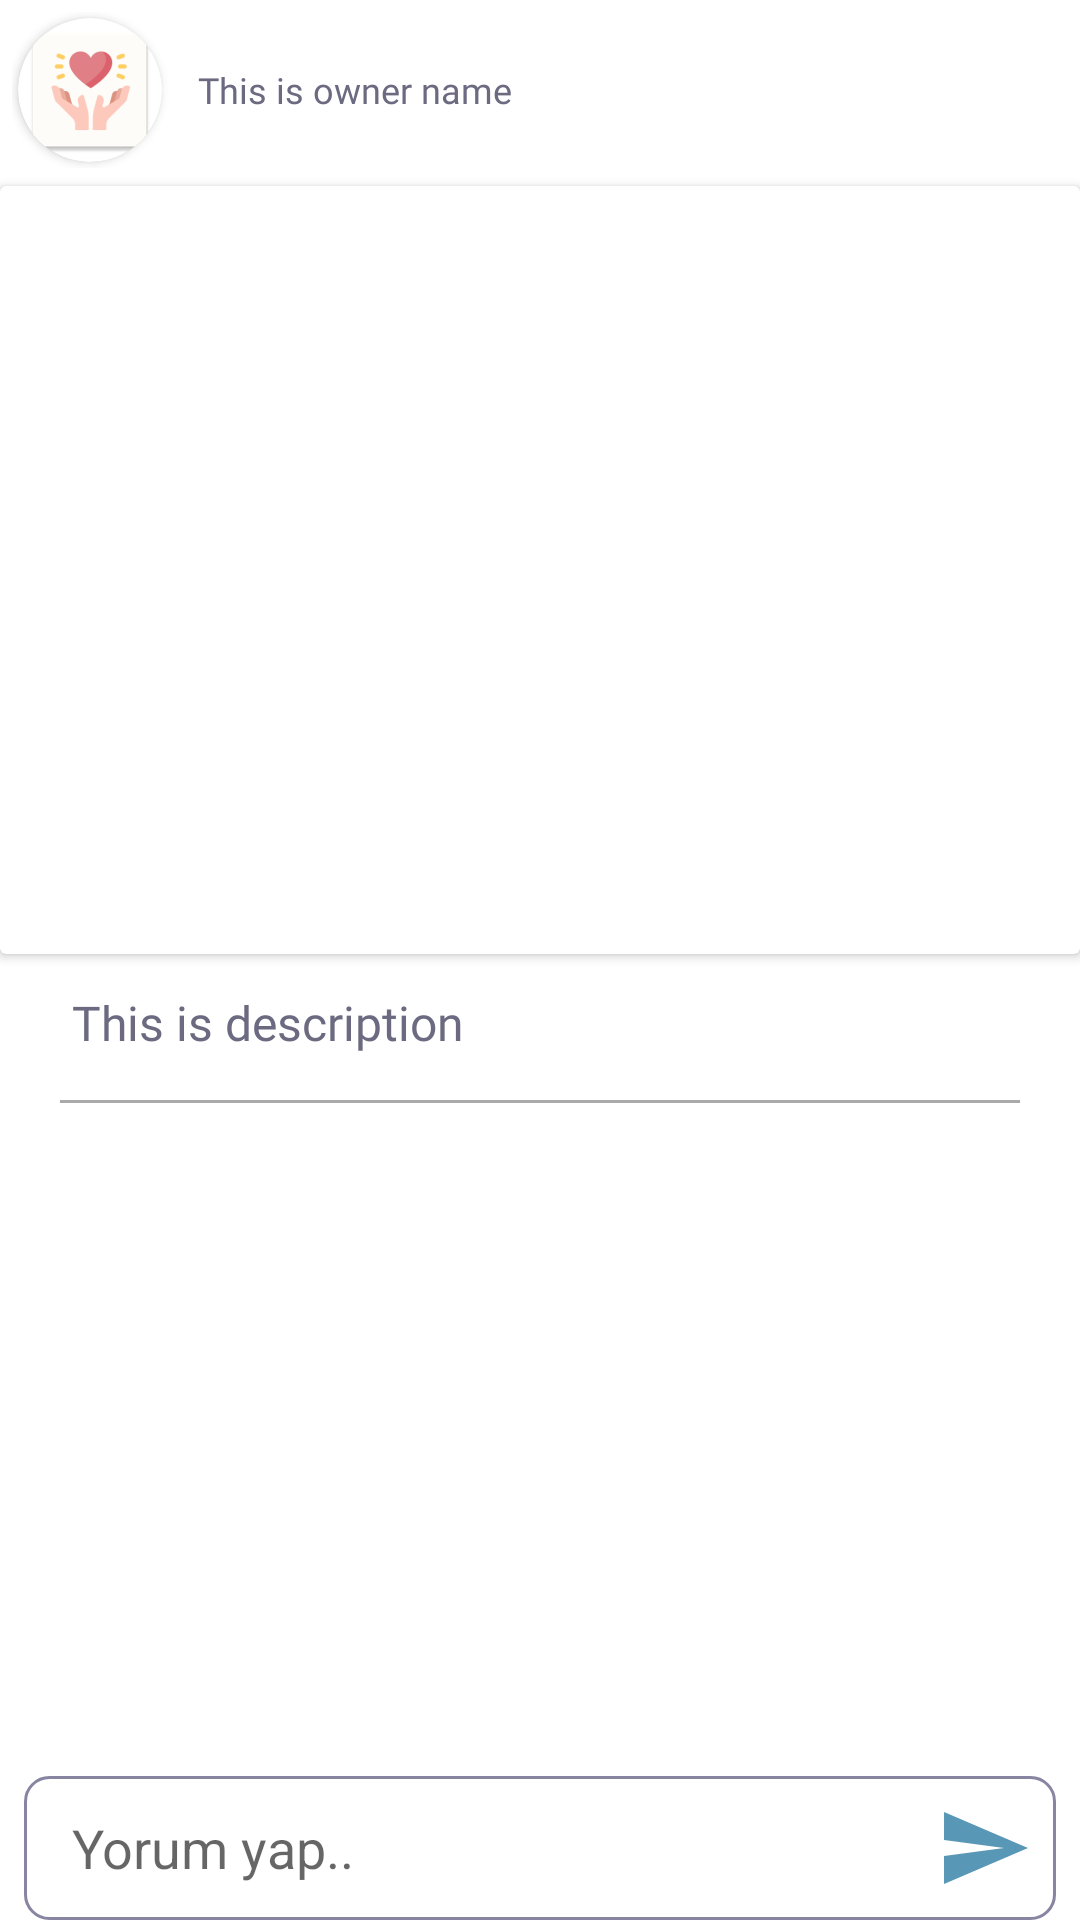

Icons on this 1080 x 1920 Android screen, each with the point to tap as [x,y]:
send: [986,1848]
